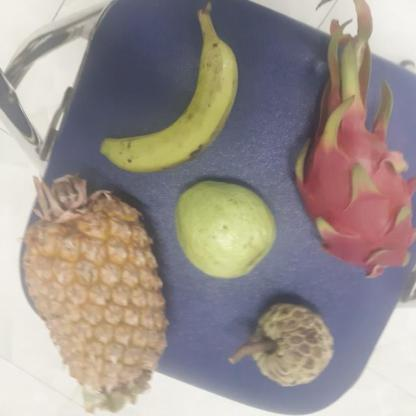annona: (246, 300, 339, 385)
banana: (102, 37, 245, 169)
guava: (176, 184, 280, 278)
pitaya: (293, 98, 416, 274)
